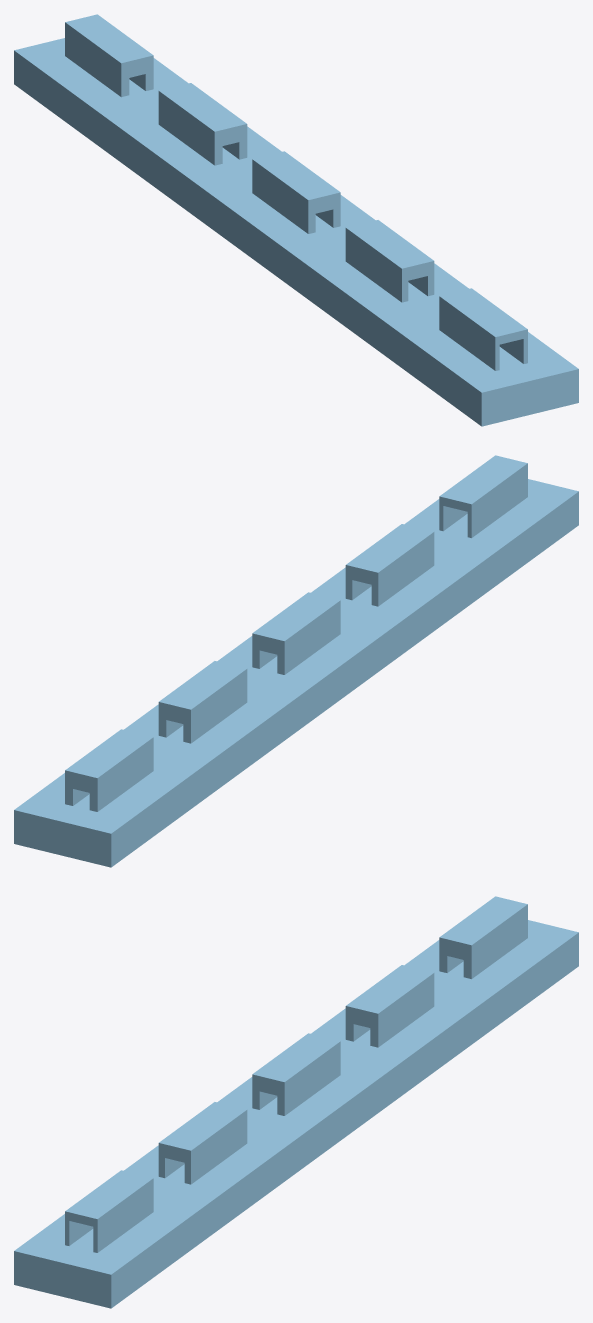
Rendered from tunnel gym.obj.
The picture shows the model from 3 angles, top to bottom: view 1: azimuth 30°, elevation 25°; view 2: azimuth 150°, elevation 25°; view 3: azimuth 330°, elevation 25°; orthographic projection.
Parts seen in each view (by area): view 1: Part_Studio_2_-_Part_1; view 2: Part_Studio_2_-_Part_1; view 3: Part_Studio_2_-_Part_1.
Part boxes in pixels (x1,y1,x2,y2): Part_Studio_2_-_Part_1: (14, 14, 578, 426); Part_Studio_2_-_Part_1: (14, 455, 578, 867); Part_Studio_2_-_Part_1: (14, 896, 578, 1308).
Bounding box in the file's own units: 3 × 2 × 25.
